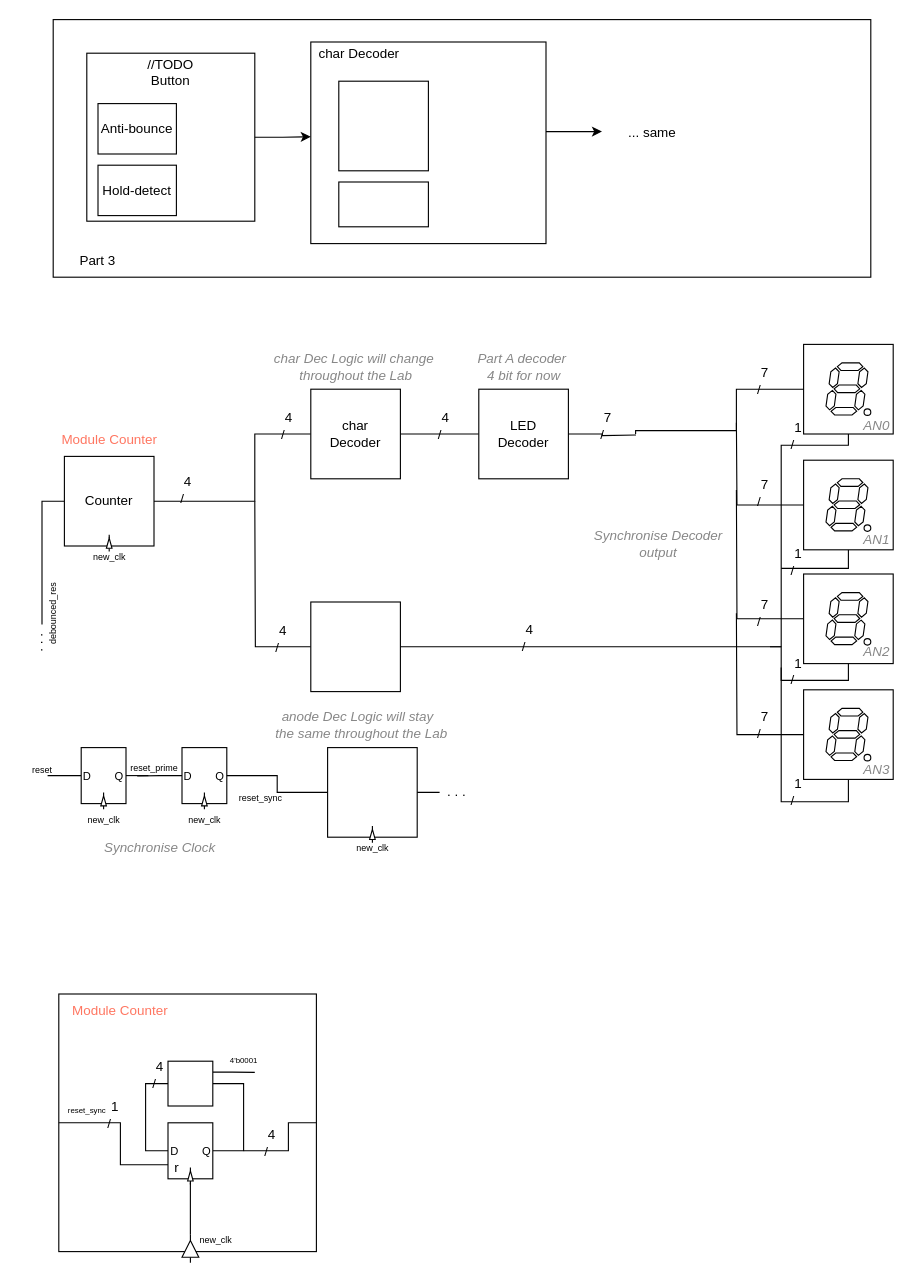
Image size: 923x1282. Some labels were removed from this diagram. Here are the shapes that lost their labels. From the top down, the centre of each, then its label:
(x=383, y=125): //handle Button Logic
(x=383, y=204): // add mem msg mem
(x=355, y=646): anode Decoder
(x=371, y=791): Debouncer
(x=190, y=1083): half adder
